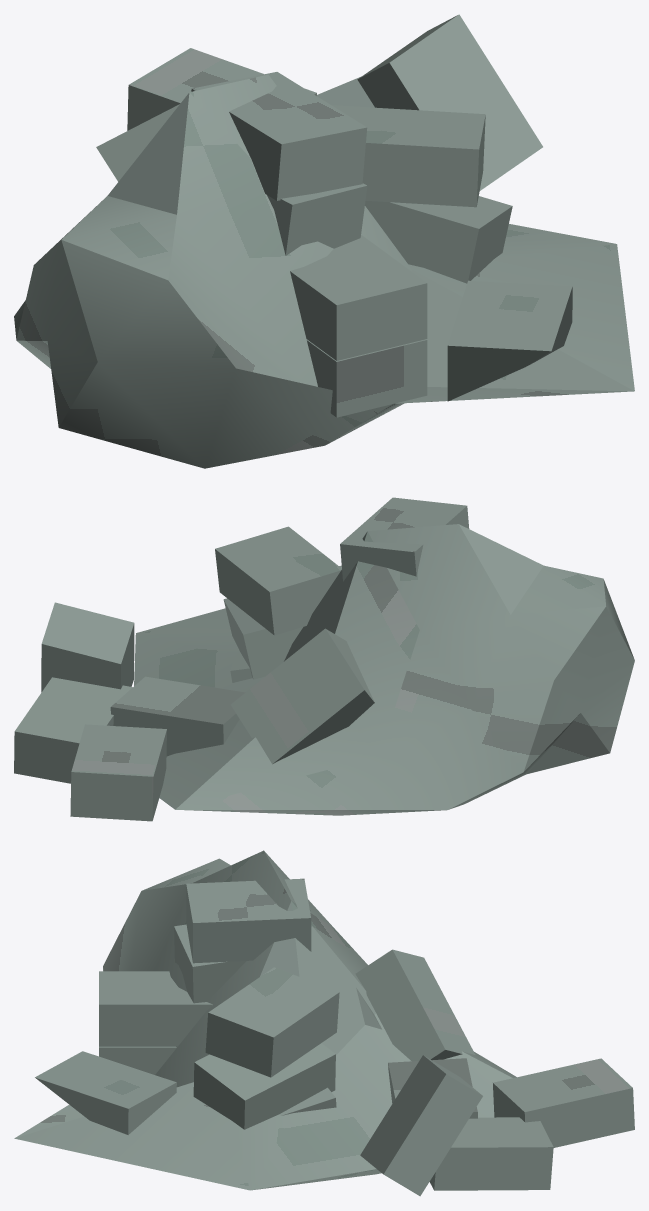
File: Obstacle.fbx
3 views of the same model, one above another, from view 1: azimuth 30°, elevation 25°; view 2: azimuth 150°, elevation 25°; view 3: azimuth 270°, elevation 25° (orthographic). The views are drawn at different scales.
Parts seen in each view (by area): view 1: Esfera icosaédrica; view 2: Esfera icosaédrica; view 3: Esfera icosaédrica.
Part boxes in pixels (box(x1,y1,x2,y2)): Esfera icosaédrica: box(14, 14, 634, 468); Esfera icosaédrica: box(14, 497, 634, 821); Esfera icosaédrica: box(14, 850, 634, 1196).
Size of the model in its own units: 306 by 159 by 367.
